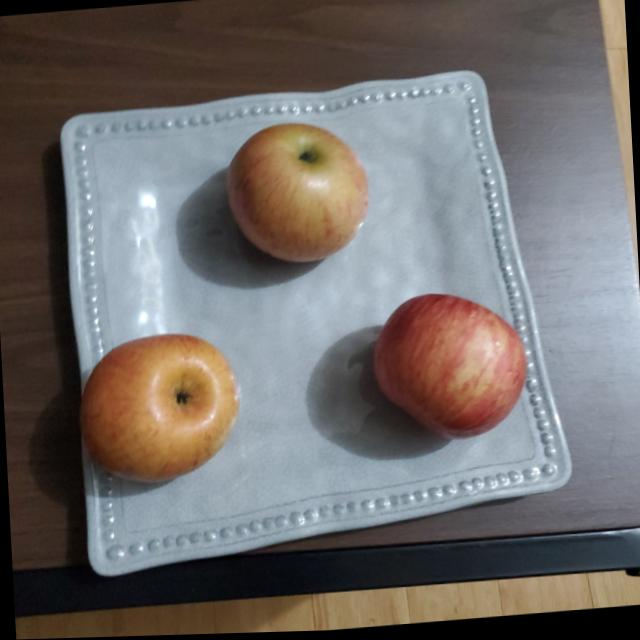apple: (75, 334, 242, 495), (374, 293, 536, 453), (222, 118, 370, 269)
